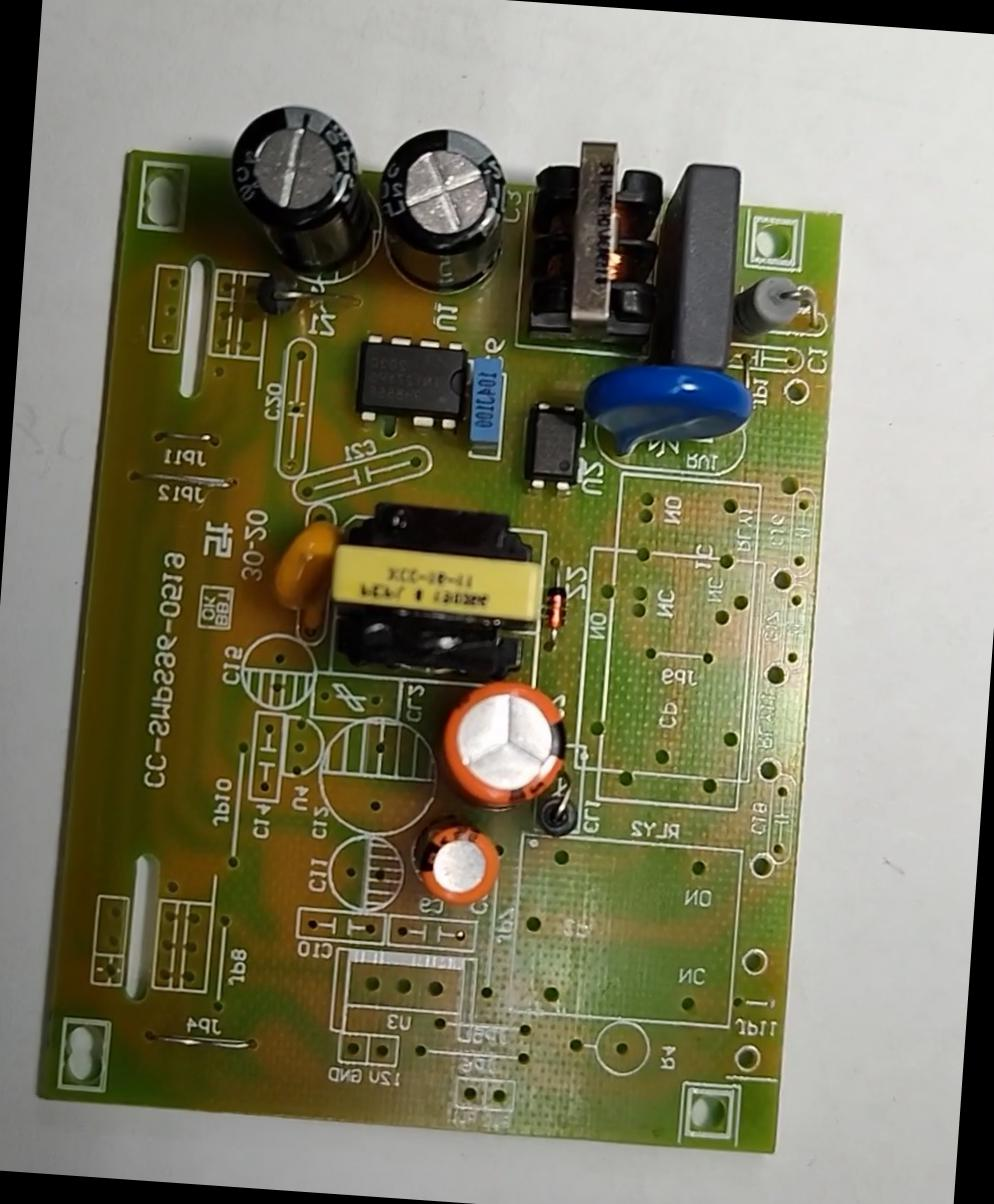Cap1: (442, 674, 570, 813)
Cap2: (414, 818, 502, 907)
Cap3: (374, 124, 511, 298)
Cap4: (222, 100, 381, 278)
MOSFET: (356, 331, 468, 428)
Mov: (578, 360, 751, 466)
Resistor: (730, 269, 804, 348)
Transformer: (326, 496, 540, 683), (520, 130, 670, 350)
